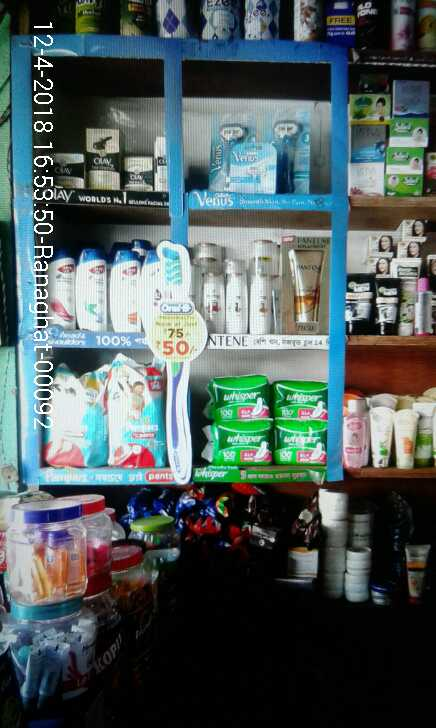venus: (274, 109, 310, 193), (228, 143, 274, 193), (213, 116, 253, 141)
